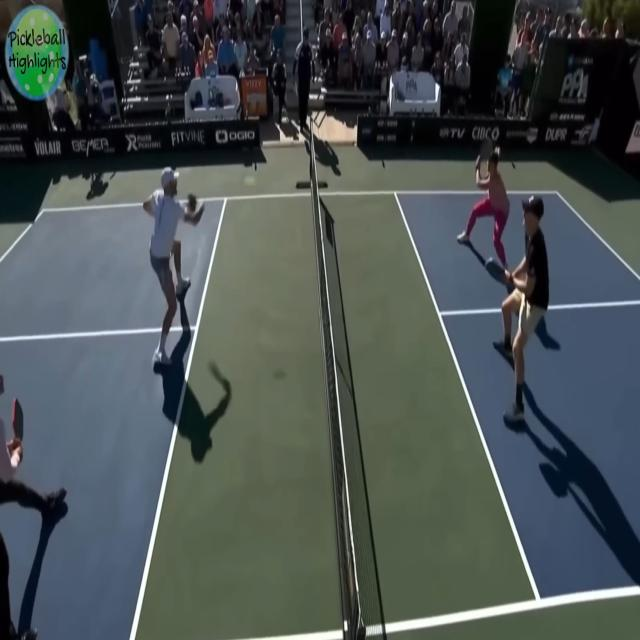ball: (244, 174, 258, 193)
